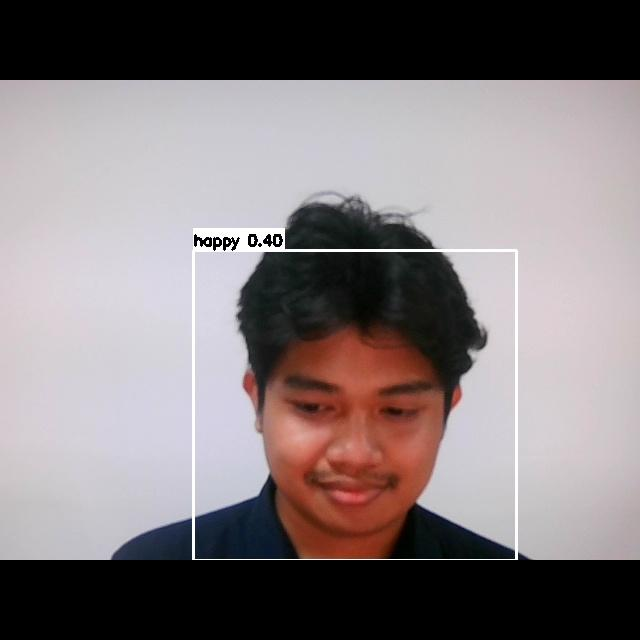Happy: (264, 350, 441, 519)
